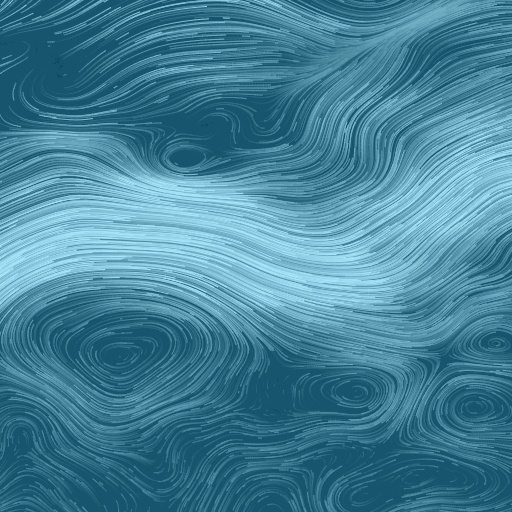eddy: (52, 306, 204, 403), (338, 456, 478, 508), (444, 381, 507, 434), (325, 371, 386, 412), (158, 140, 207, 173), (473, 324, 512, 359)
